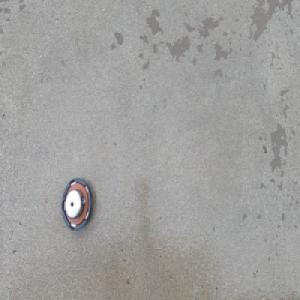FuelCap: (60, 175, 92, 233)
